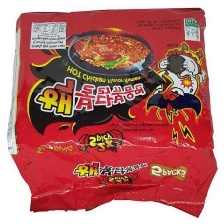snack: (1, 0, 224, 224)
